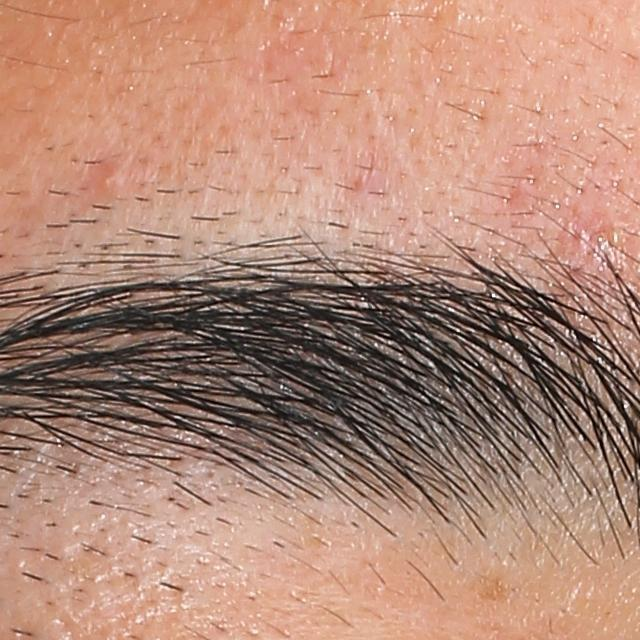papule: (91, 157, 132, 202)
